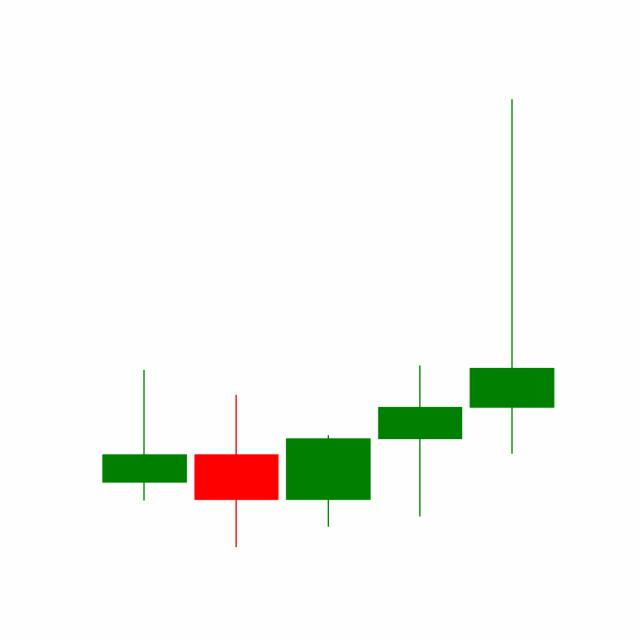Spinning Top: (373, 362, 467, 518)
